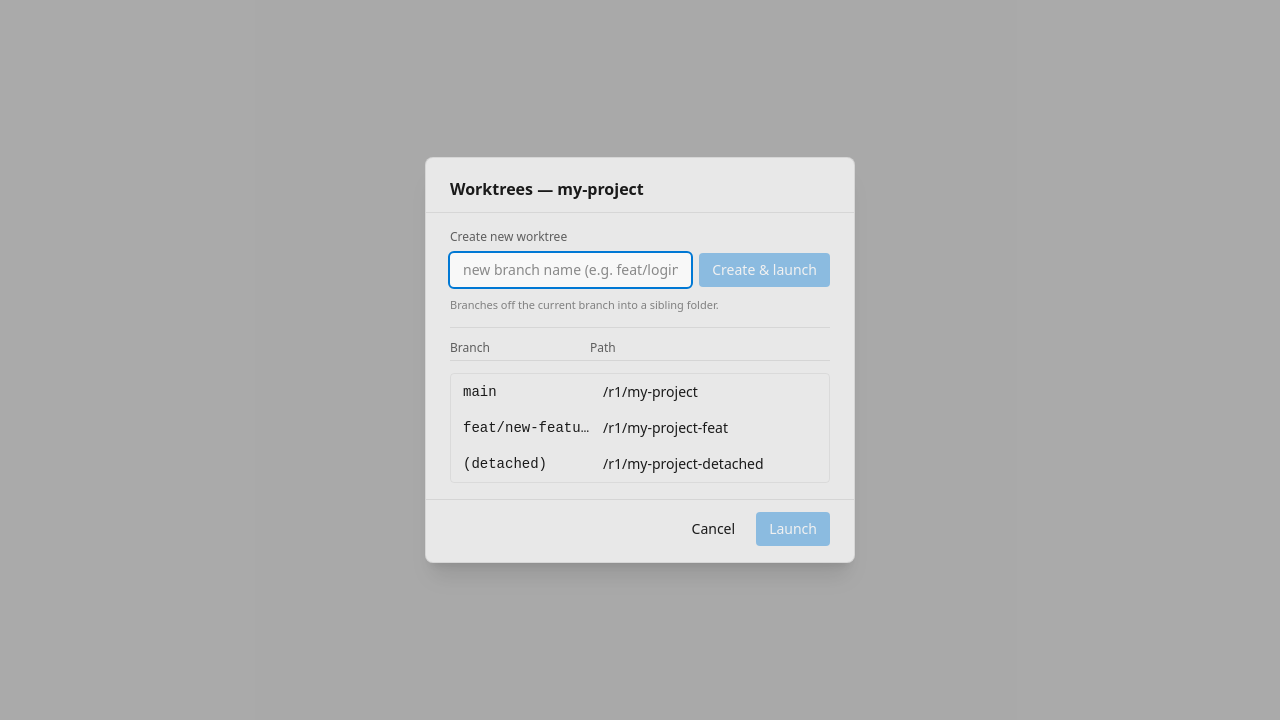
Test: WorktreePickerDialog › selecting a worktree enables the Launch button
Click the text "main".
click(480, 392)  # box x1=463 y1=384 x2=497 y2=400
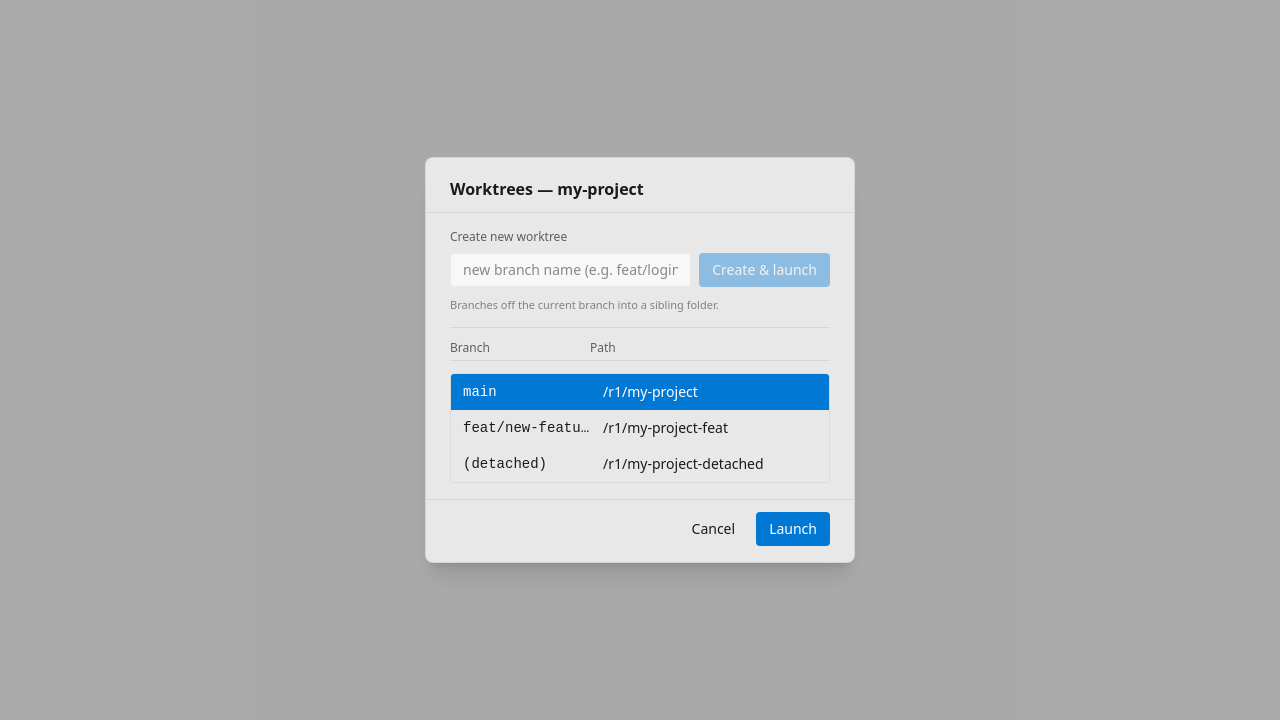
Now the button "Launch" is enabled, box x1=756 y1=512 x2=830 y2=546
